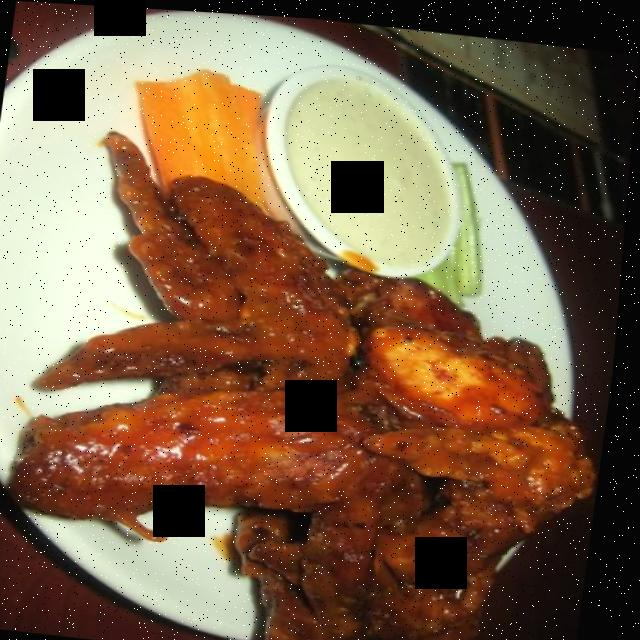Frango: (38, 163, 370, 419), (20, 349, 371, 556)
